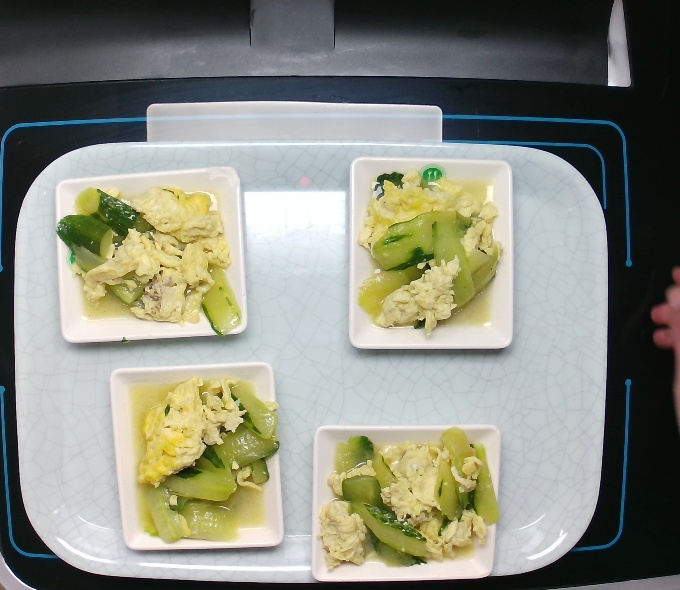wcq-DanHuangHuangGua: (57, 176, 253, 337), (310, 425, 502, 576), (135, 375, 283, 543), (358, 176, 504, 340)
